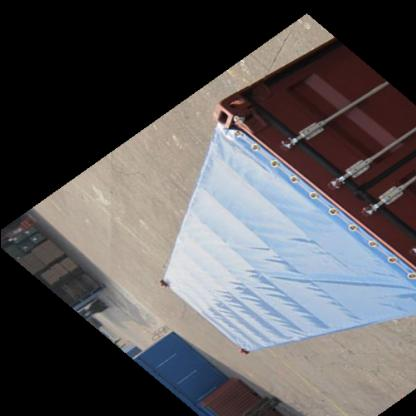Damage: (221, 87, 270, 140), (340, 173, 368, 209)
